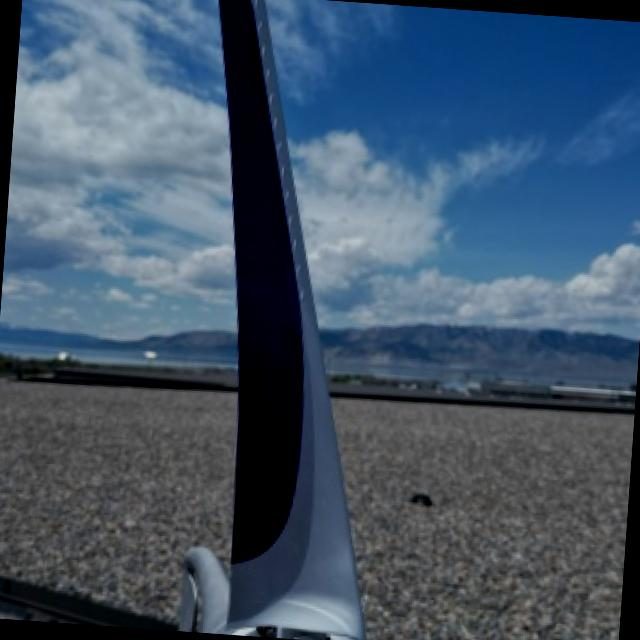healthy: (177, 0, 361, 640)
